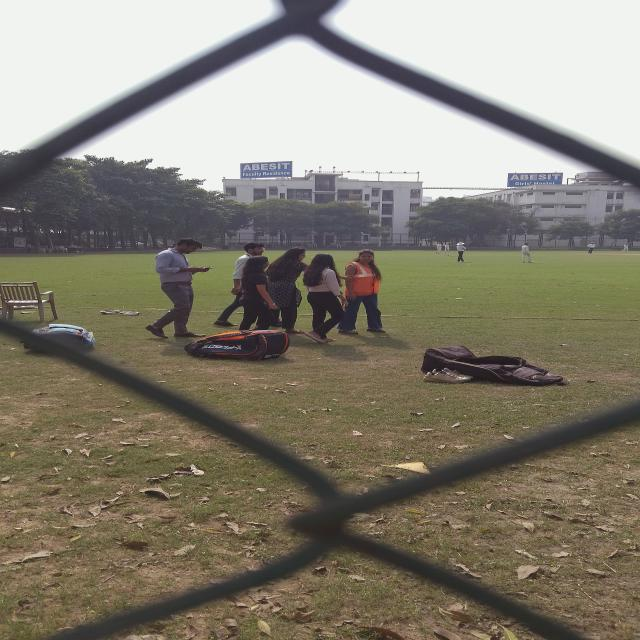safe: (340, 246, 384, 340)
unsafe: (152, 238, 199, 341), (268, 246, 304, 335), (239, 257, 278, 332), (310, 253, 341, 344), (520, 242, 536, 264), (454, 242, 468, 262), (586, 241, 596, 254), (623, 243, 632, 253), (436, 242, 442, 256), (444, 242, 450, 256)
